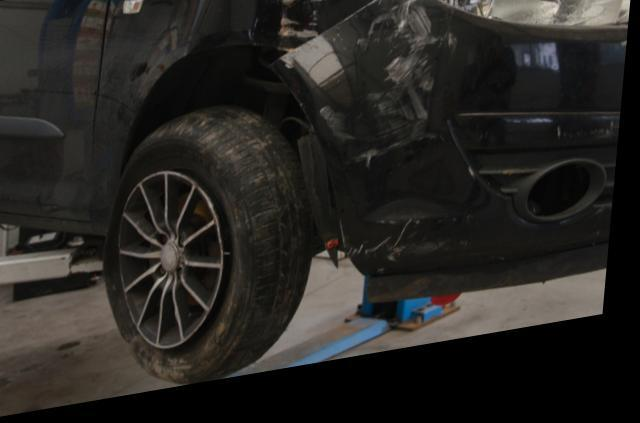dent: (186, 0, 282, 64)
lamp broken: (427, 0, 634, 48)
scratch: (321, 0, 465, 184), (352, 231, 461, 279), (277, 0, 336, 62)
